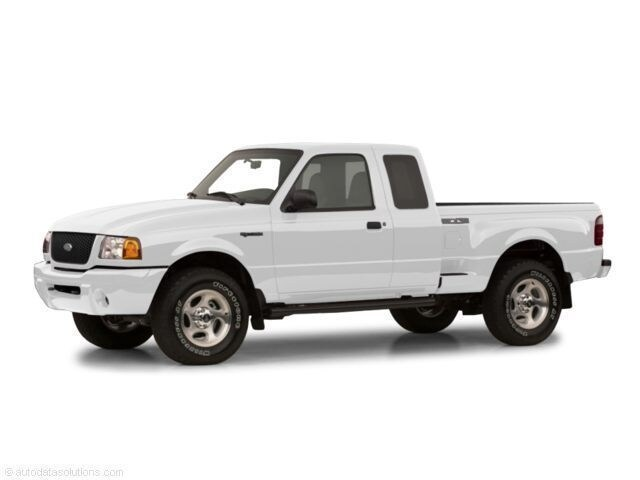Vehicle: (29, 131, 612, 375)
